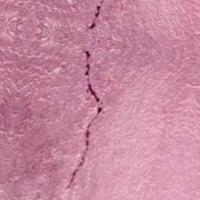crack: (51, 2, 123, 193)
